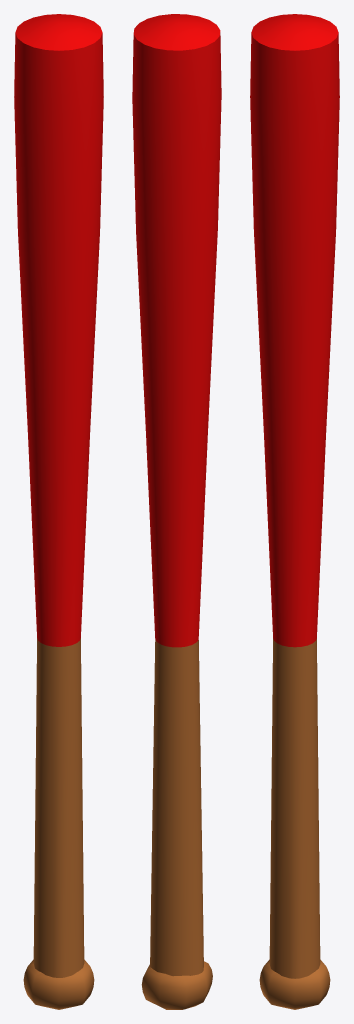
Rendered from beyzbolfbx.FBX.
The picture shows the model from 3 angles, left to right: view 1: azimuth 90°, elevation 25°; view 2: azimuth 150°, elevation 25°; view 3: azimuth 270°, elevation 25°; orthographic projection.
Parts seen in each view (by area): view 1: pCylinder1, pCube1; view 2: pCylinder1, pCube1; view 3: pCylinder1, pCube1.
Boxes of the visible parts, x1,y1,x2,y2 form: pCylinder1: [14, 14, 103, 977]; pCube1: [23, 959, 94, 1009]; pCylinder1: [132, 14, 221, 976]; pCube1: [141, 961, 212, 1009]; pCylinder1: [250, 14, 339, 978]; pCube1: [259, 959, 330, 1009].
Size of the model in its own units: 1.91 by 23.02 by 1.91.
